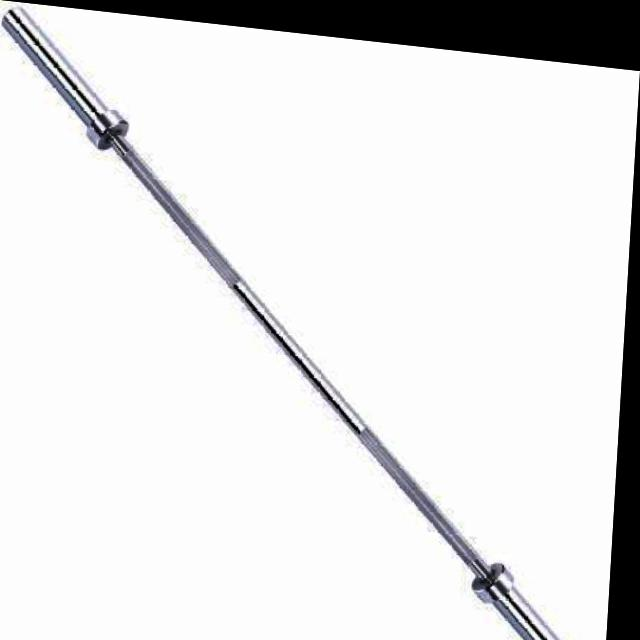barbell: (1, 1, 142, 158)
